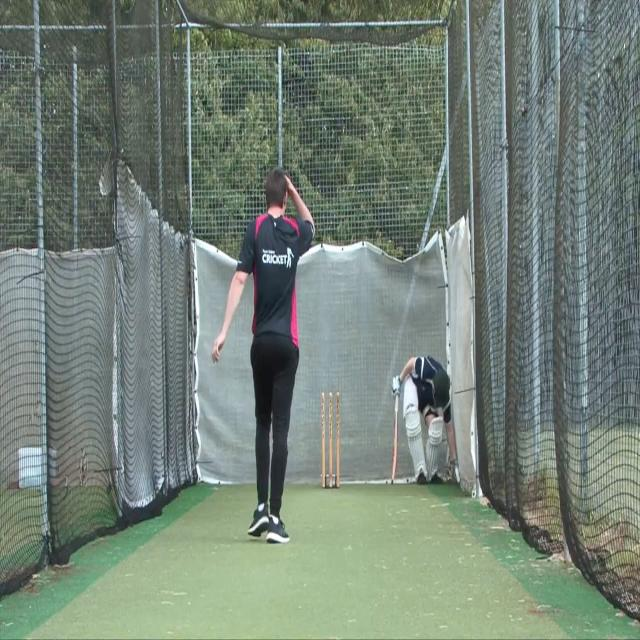batsman: (389, 353, 461, 488)
